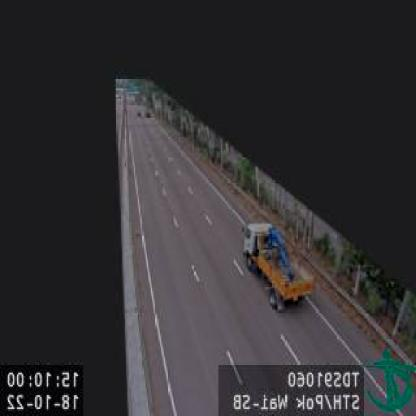Truck: (240, 221, 312, 306)
